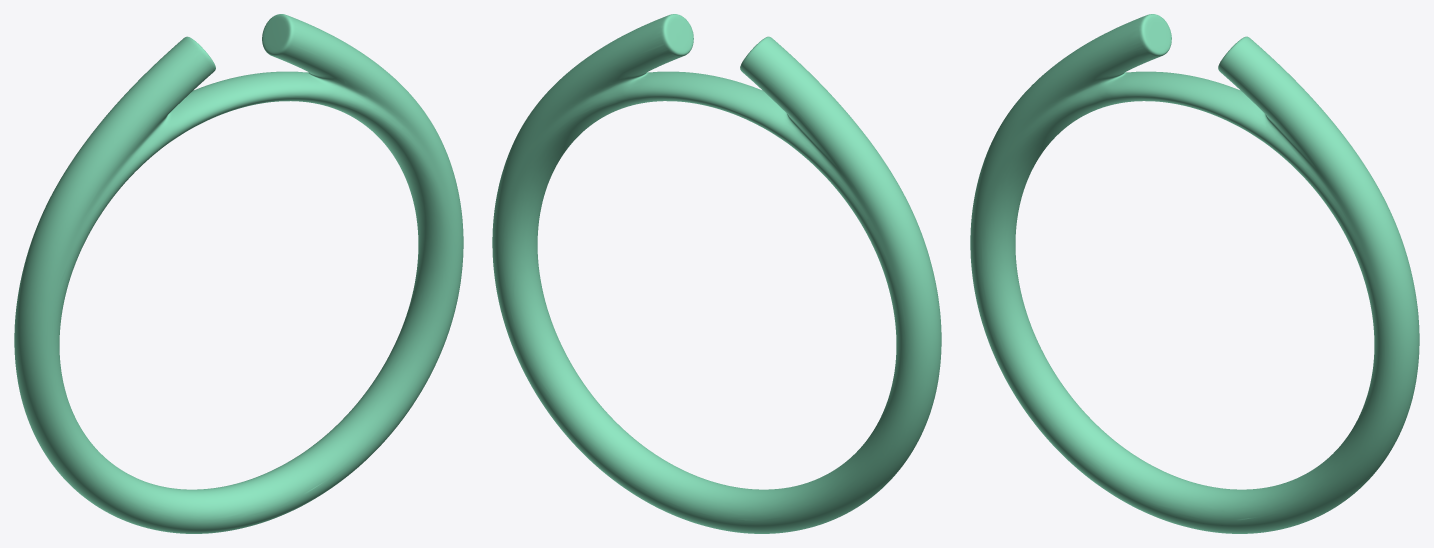
The picture shows the model from 3 angles, left to right: view 1: azimuth 30°, elevation 25°; view 2: azimuth 150°, elevation 25°; view 3: azimuth 330°, elevation 25°; orthographic projection.
Visible parts, largest first — view 1: Metal02; view 2: Metal02; view 3: Metal02.
Part boxes in pixels (x1,y1,x2,y2): Metal02: [14, 14, 463, 533]; Metal02: [492, 14, 941, 533]; Metal02: [970, 14, 1419, 533].
Bounding box in the file's own units: 20.91 × 22.53 × 1.99.
